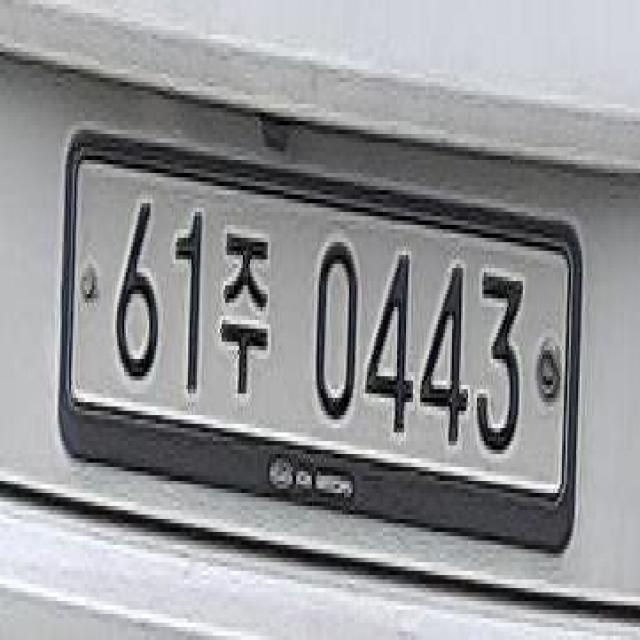0: (311, 218, 361, 428)
1: (170, 202, 206, 412)
3: (476, 264, 528, 458)
4: (364, 240, 417, 450), (418, 252, 470, 456)
6: (113, 186, 161, 396)
ju: (215, 212, 273, 412)
license_plate: (46, 112, 589, 584)
